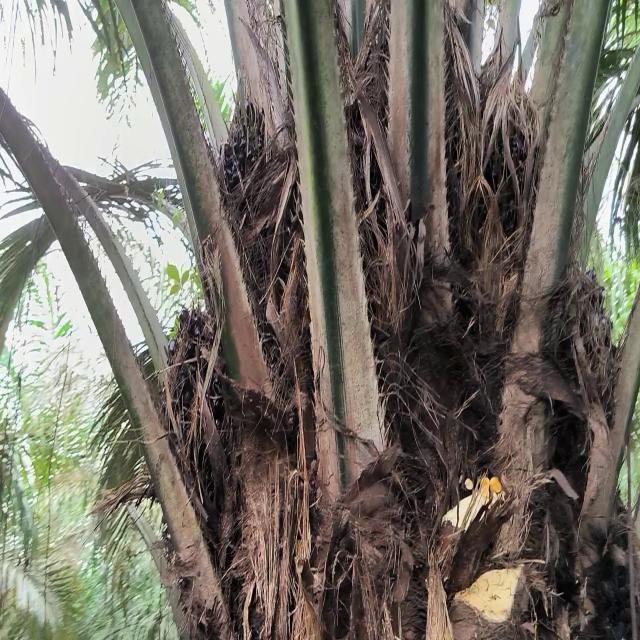palm-oil: (160, 304, 237, 573), (211, 92, 288, 361)
